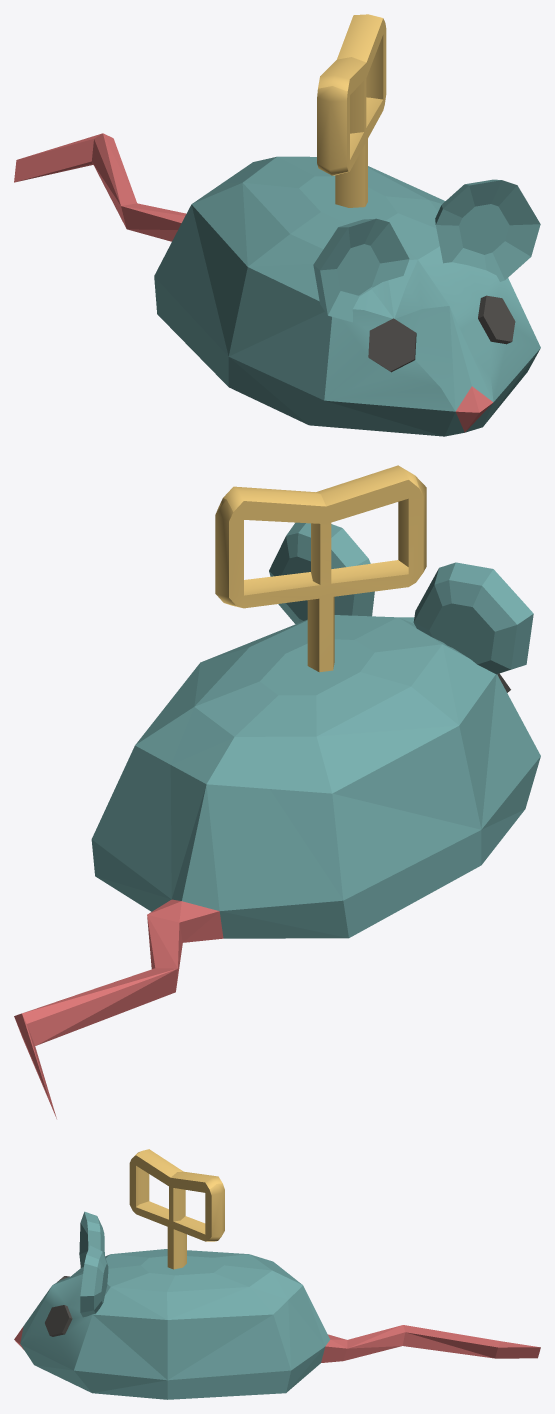
File: Mousey.fbx
3 renders of one model, top to bottom at view 1: azimuth 30°, elevation 25°; view 2: azimuth 150°, elevation 25°; view 3: azimuth 270°, elevation 25°, orthographic. The views are drawn at different scales.
Visible parts, largest first — view 1: pCube89, pCube90, pCylinder2, pCylinder1; view 2: pCube89, pCube90, pCylinder1, pCylinder2; view 3: pCube89, pCube90, pCylinder2, pCylinder1.
Boxes of the visible parts, x1=… form: pCube89: x1=14, y1=133, x2=540, y2=436; pCube90: x1=317, y1=14, x2=386, y2=207; pCylinder2: x1=435, y1=179, x2=540, y2=281; pCylinder1: x1=313, y1=218, x2=409, y2=322; pCube89: x1=14, y1=615, x2=540, y2=1118; pCube90: x1=215, y1=465, x2=426, y2=672; pCylinder1: x1=413, y1=562, x2=533, y2=674; pCylinder2: x1=269, y1=522, x2=374, y2=624; pCube89: x1=14, y1=1249, x2=540, y2=1399; pCube90: x1=129, y1=1149, x2=224, y2=1269; pCylinder2: x1=80, y1=1245, x2=108, y2=1317; pCylinder1: x1=79, y1=1211, x2=104, y2=1267.
Bounding box in the file's own units: 1.35 × 1.64 × 3.7.
